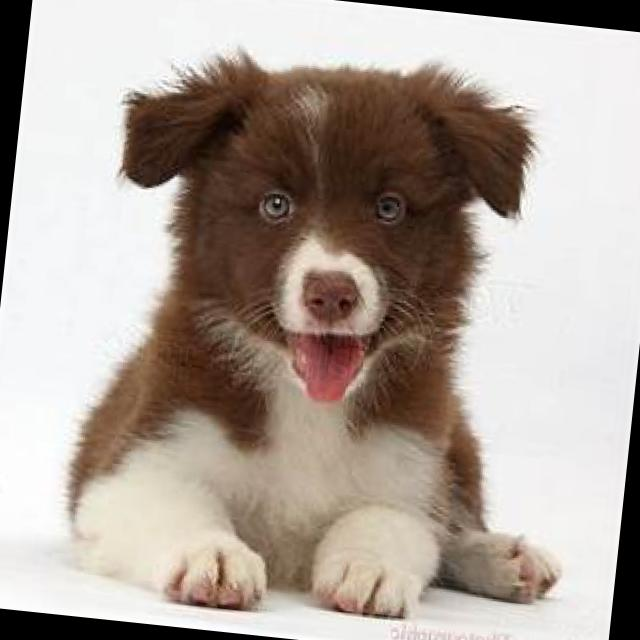animal: (52, 31, 609, 640)
